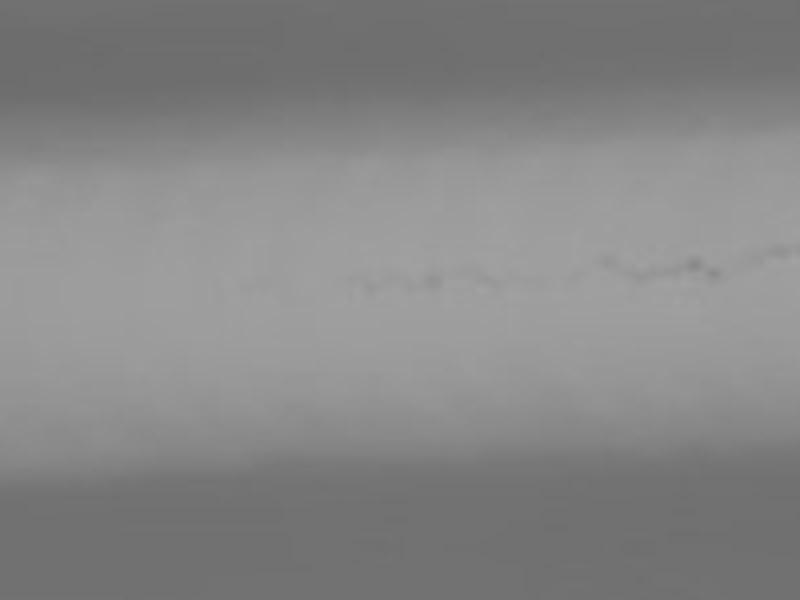defect: (423, 270, 446, 290), (629, 267, 650, 288), (684, 254, 703, 273), (706, 266, 725, 285), (598, 251, 616, 271), (770, 242, 786, 258), (653, 265, 667, 279)
